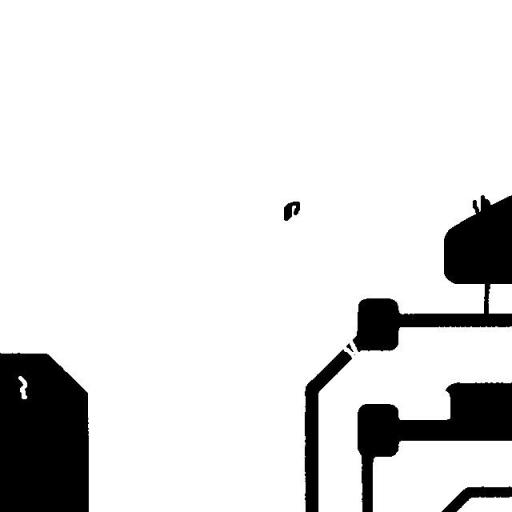copper: (276, 194, 307, 228)
mousebite: (431, 383, 458, 427)
open: (334, 326, 368, 369)
pin-hole: (10, 368, 34, 406)
short: (476, 264, 498, 326)
spur: (465, 187, 505, 226)
